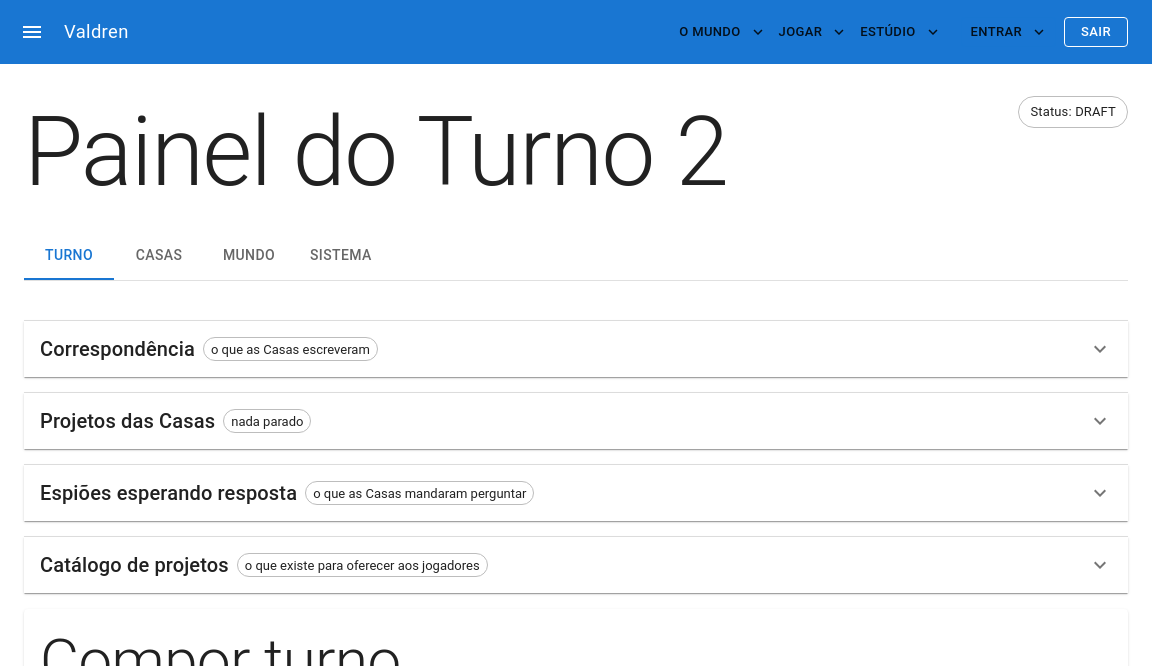
Test: AdminPage › creates a house and shows the generated access code
expect the heading "Painel do Turno 2" is shown: met, box [24,96,727,208]
Click the tab "Casas": (159, 256) [114,232,204,280]
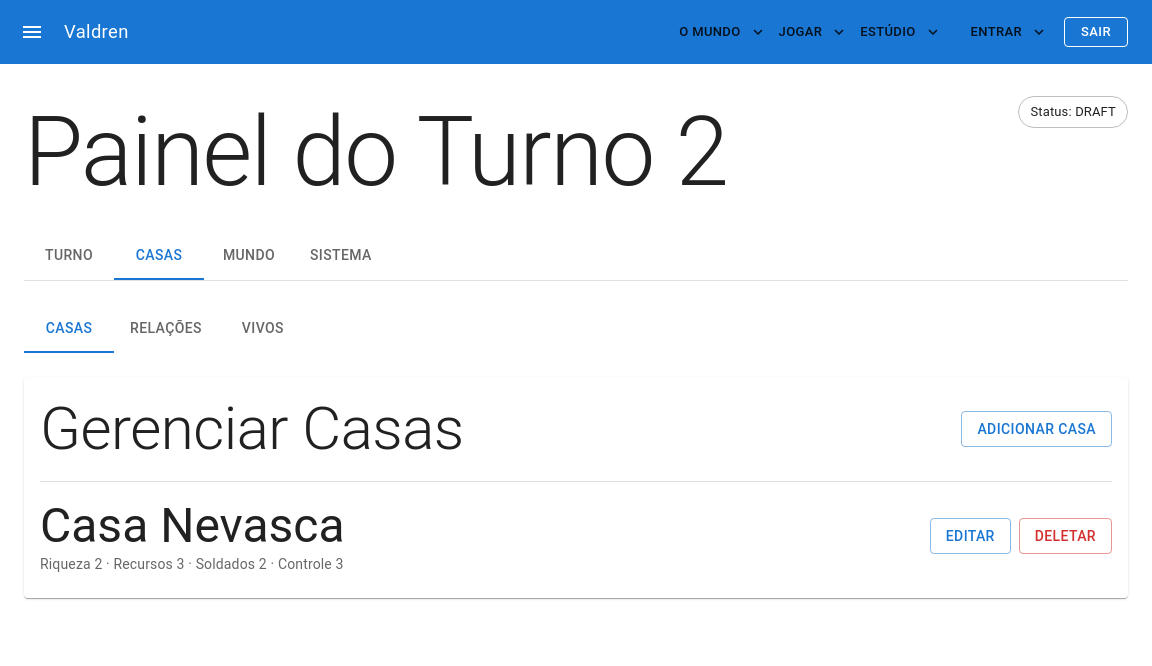
expect the heading "Gerenciar Casas" is shown: met, box [40,393,464,465]
Click the button "Adicionar Casa": (1037, 429) [961,411,1112,447]
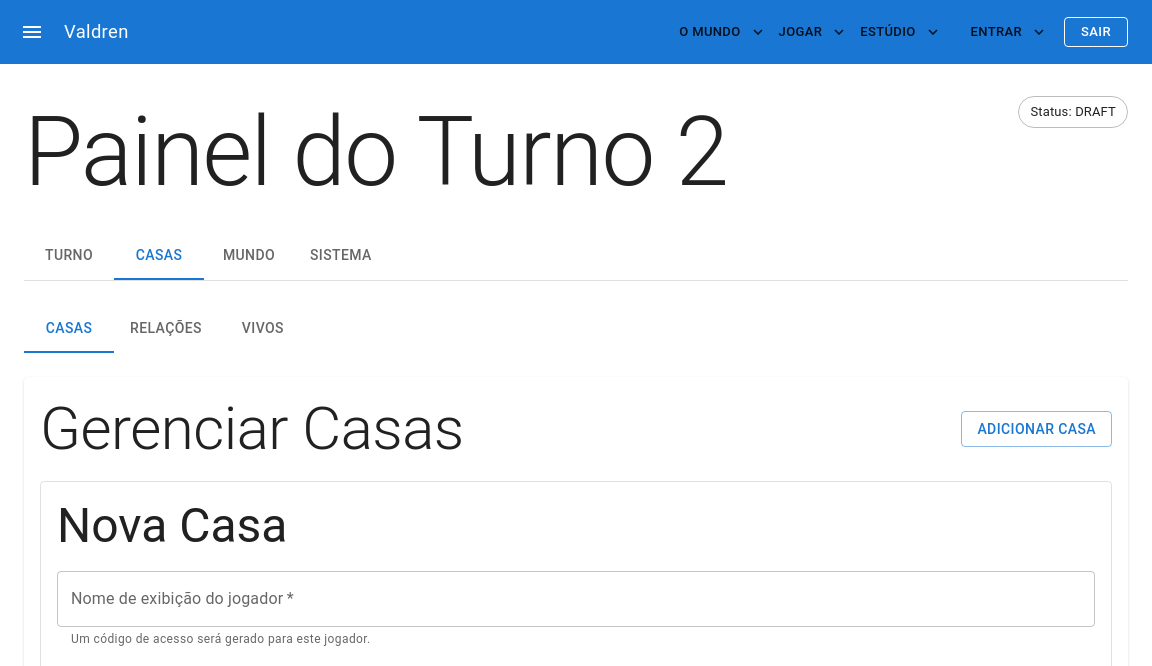
In the field labelled "Nome de exibição do jogador *": (576, 599) [57,571,1095,627], type "Novo Jogador"
(page scrolled)
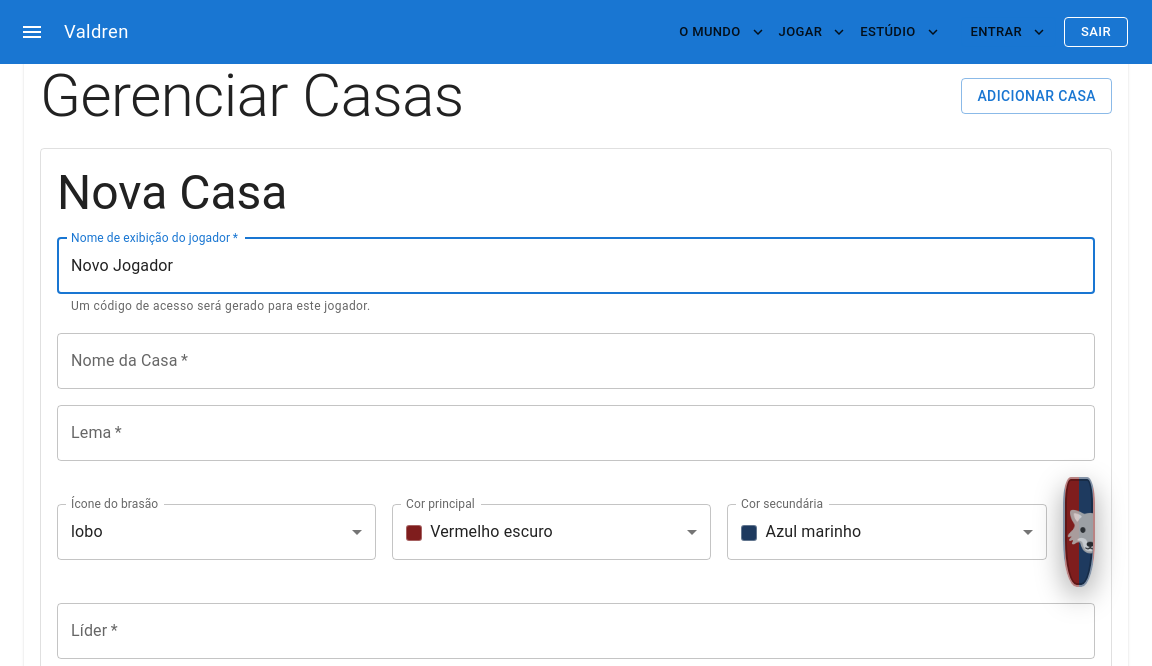
In the field labelled "Nome da Casa *": (576, 361) [57,333,1095,389], type "Casa Corvo"
(page scrolled)
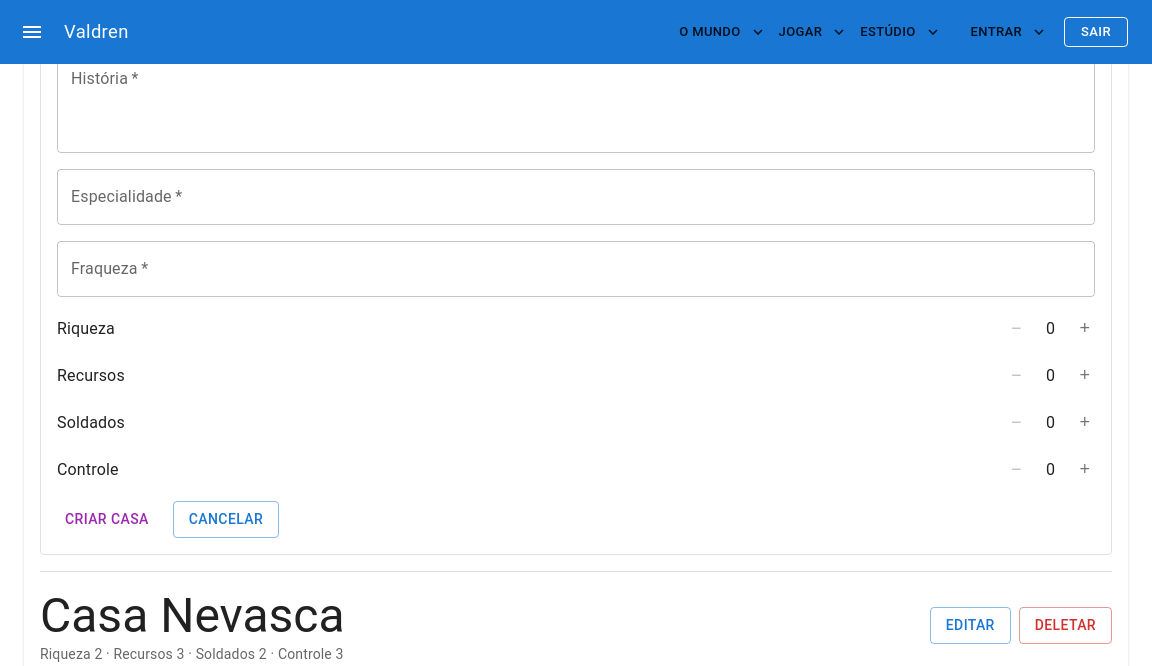
Click the button "Criar Casa": (107, 519) [57,501,157,538]
(page scrolled)
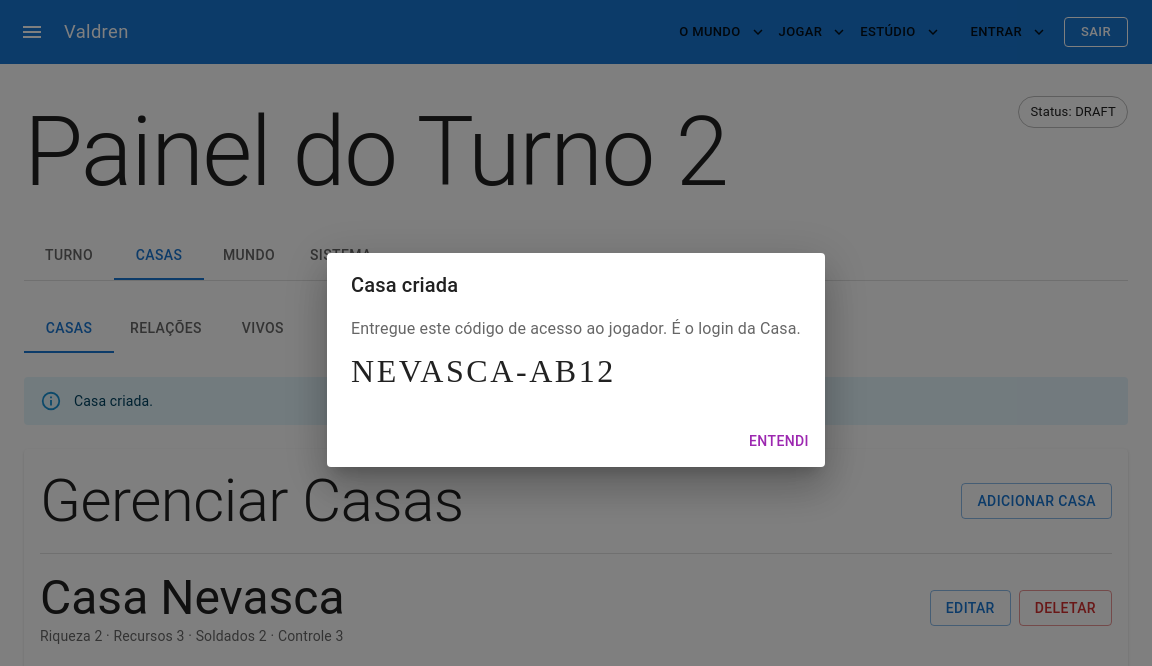
expect the text "NEVASCA-AB12" is shown: met, box [351,352,616,388]
